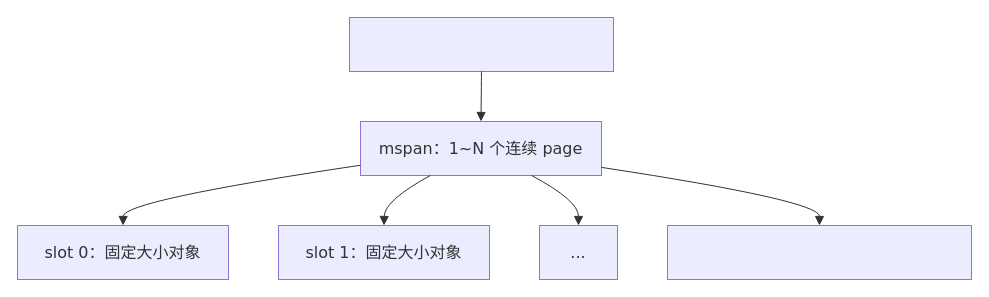
The diagram is 989 pixels wide and 297 high, and some of its shapes have lost their labels. Here are the shapes that lost their labels. From the top down, the box of each, then its label:
(348, 16, 614, 72): mheap：管理 page 空闲区间
(666, 224, 972, 280): allocBits / mark bits / 类型元数据
